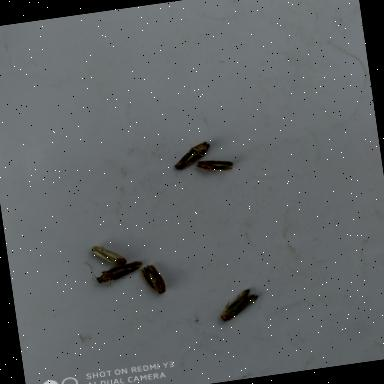pbw: (82, 252, 146, 290), (216, 286, 264, 323), (168, 138, 216, 172), (88, 239, 128, 269), (136, 262, 168, 298), (194, 154, 237, 176)
